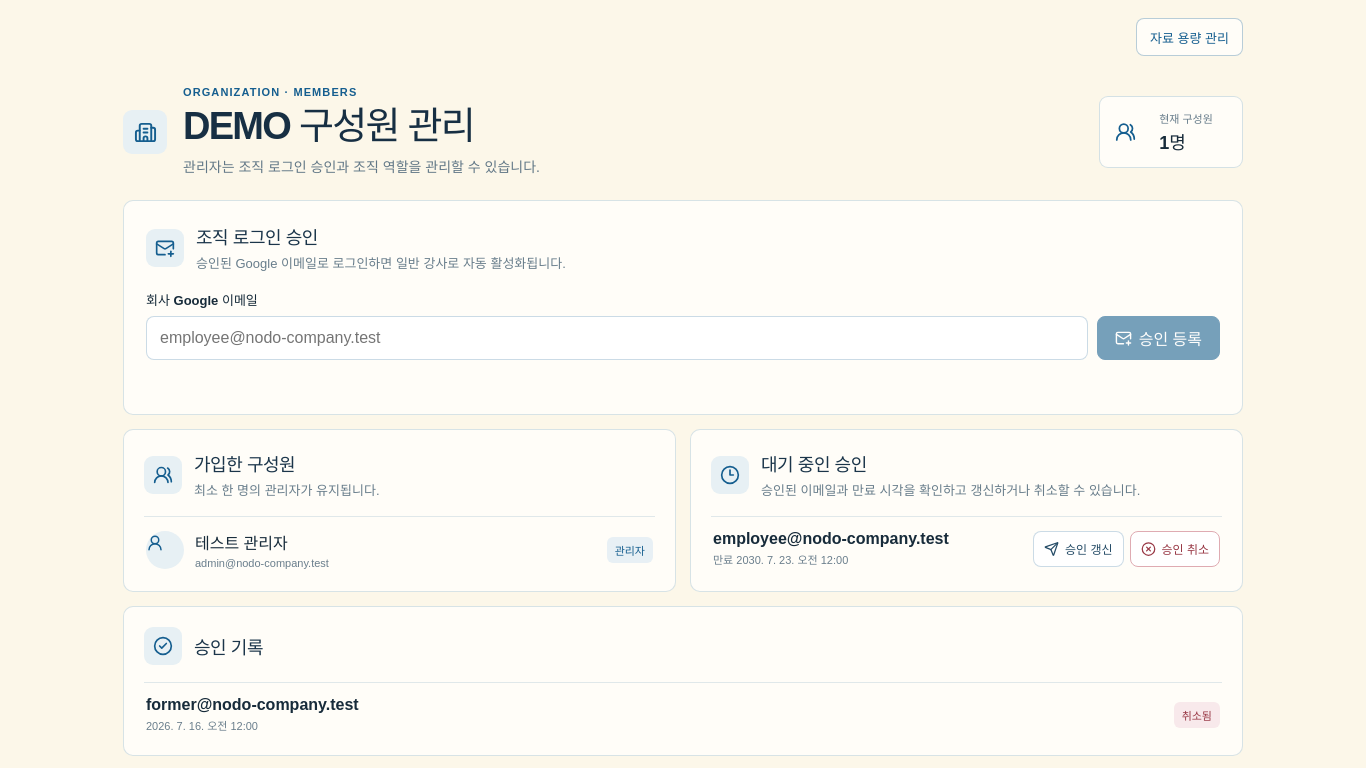
it: 조직 구성원 관리 화면 › PENDING 승인을 이메일 발송 없이 갱신한다
This screenshot has width=1366, height=768.
expect the heading "대기 중인 승인" is shown: met, box [761,455,867,475]
Click the button with aria-label "employee@nodo-company.test 승인 갱신" at (1078, 549), box [1033,531,1124,567]
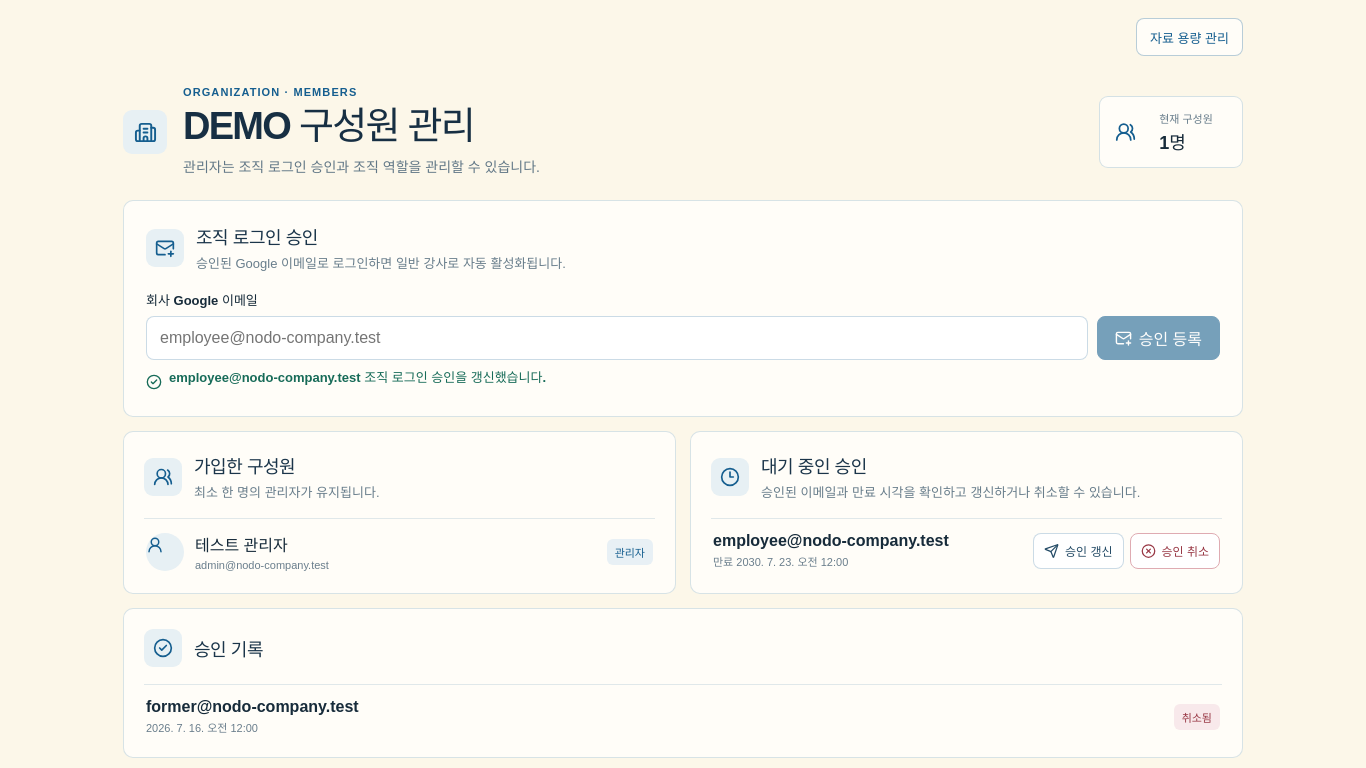
expect the text "employee@nodo-company.test 조직 로그인 승인을 갱신했습니다." is shown: met, box [146,370,546,394]
